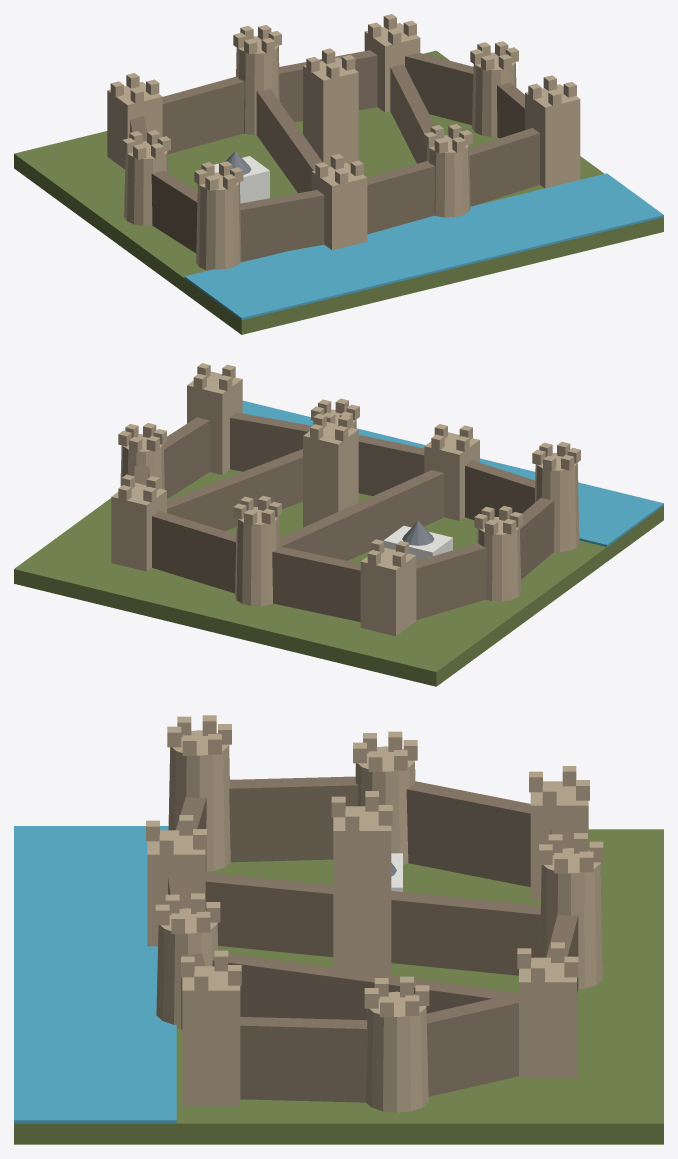
File: mamure.glb
3 views of the same model, one above another, from view 1: azimuth 30°, elevation 25°; view 2: azimuth 150°, elevation 25°; view 3: azimuth 270°, elevation 25° (orthographic). The views are drawn at different scales.
Bounding box in the file's own units: 0.6 × 0.184 × 0.56.
